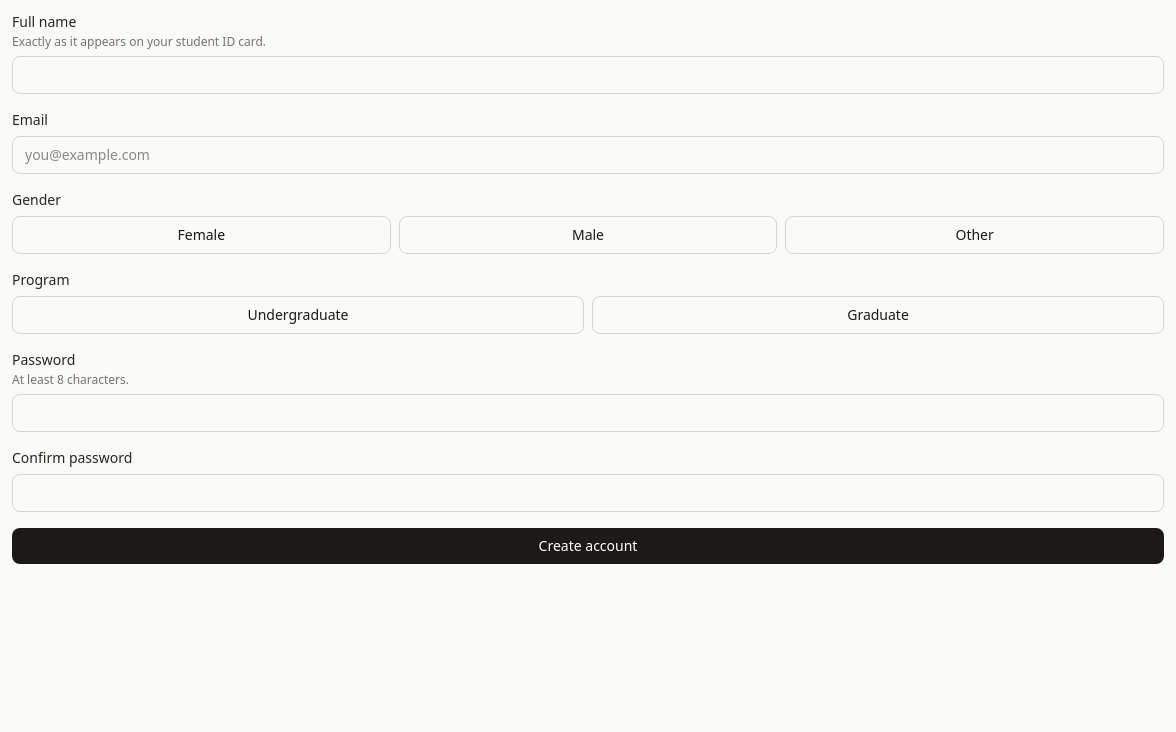
Test case: signup form › still refuses something that is not an address
In the field labelled "Full name": (588, 75) [12,56,1164,94], type "FOFANA VARLEE"
In the field labelled "Email": (588, 155) [12,136,1164,174], type "someone"
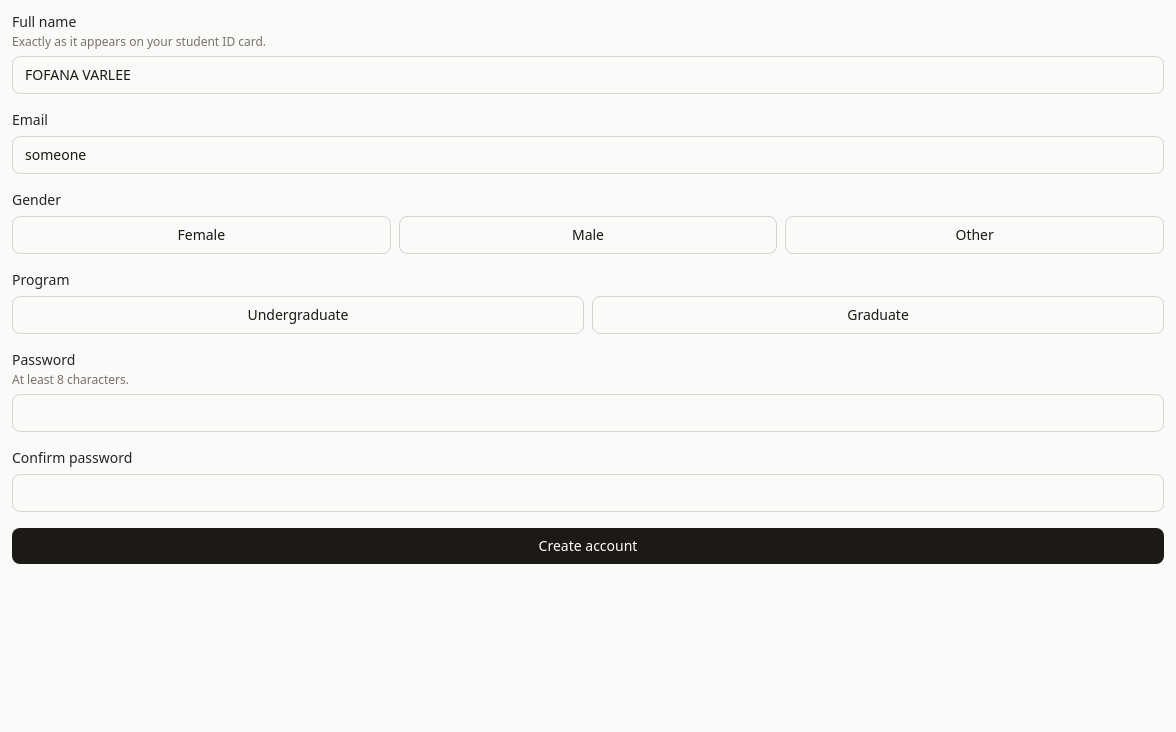
Click the radio button labelled "Male": (588, 235) [399,216,777,254]
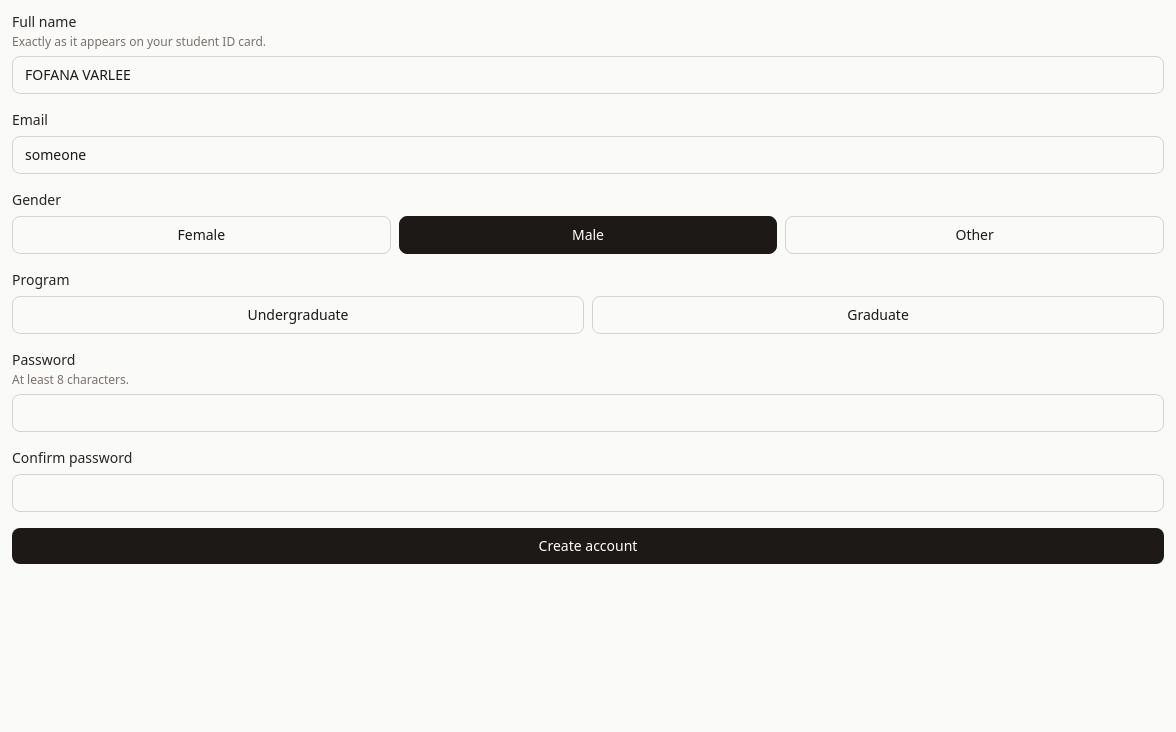
Click the radio button labelled "Undergraduate": (298, 315) [12,296,584,334]
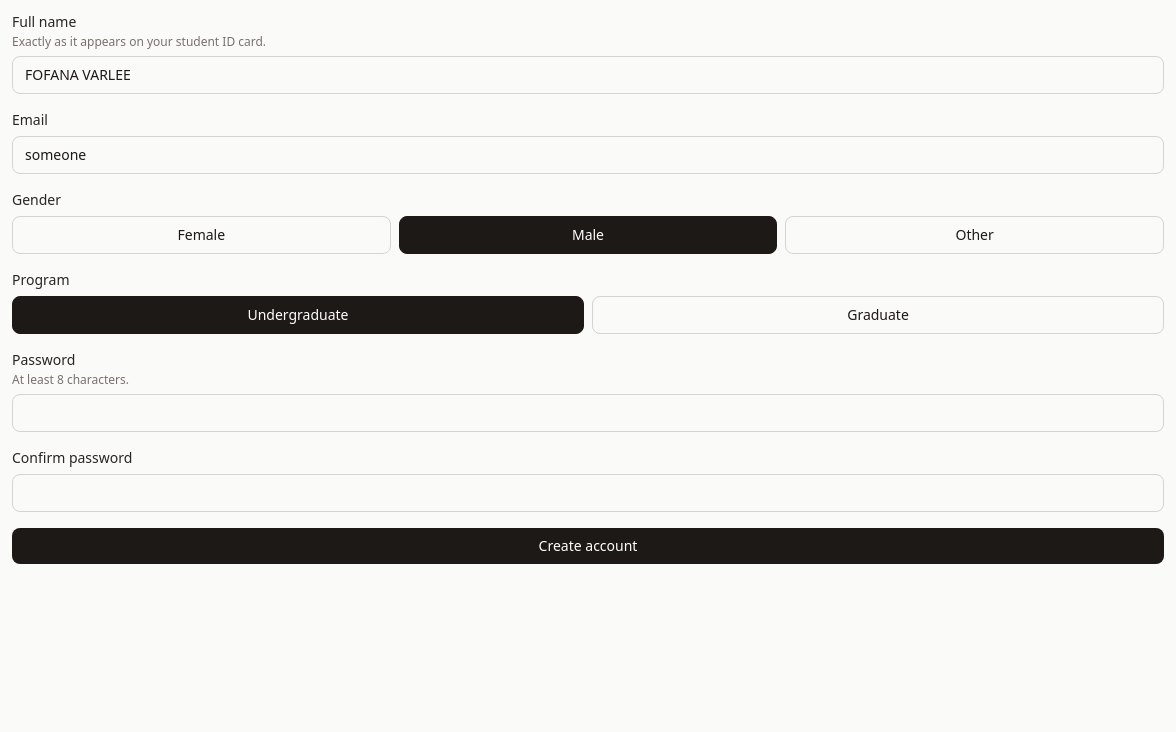
In the password field labelled "Password": (588, 413) [12,394,1164,432], type "correct horse"
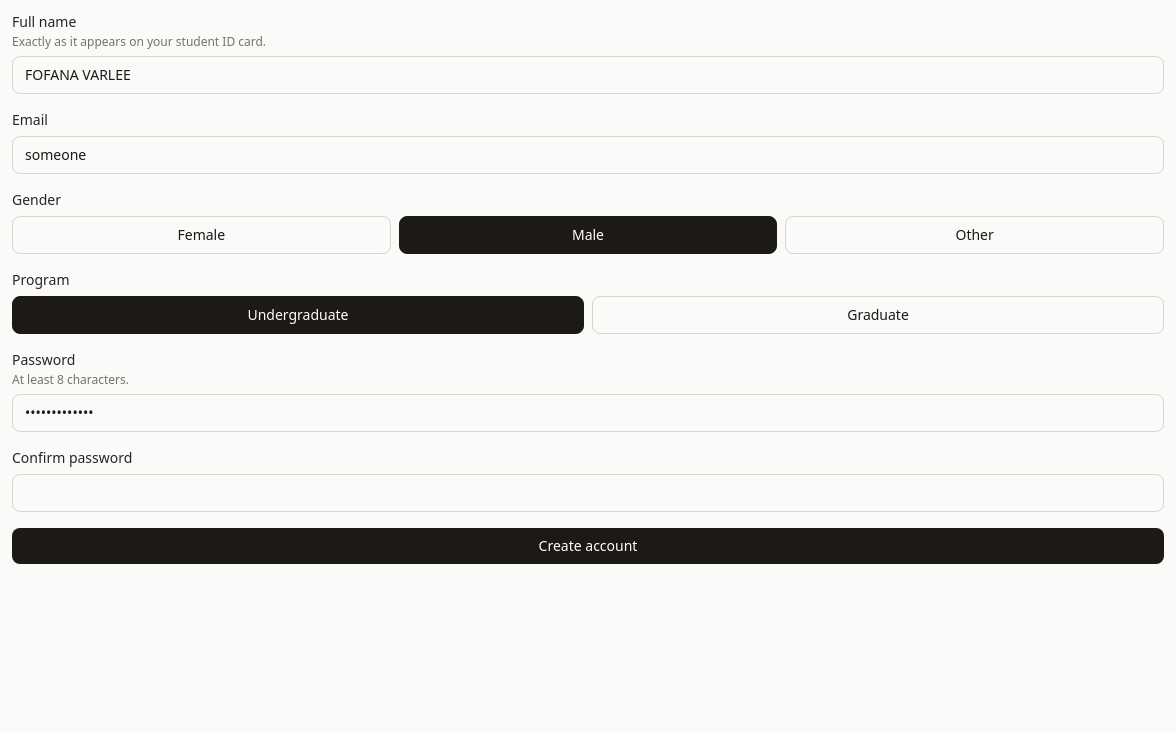
In the password field labelled "Confirm password": (588, 493) [12,474,1164,512], type "correct horse"
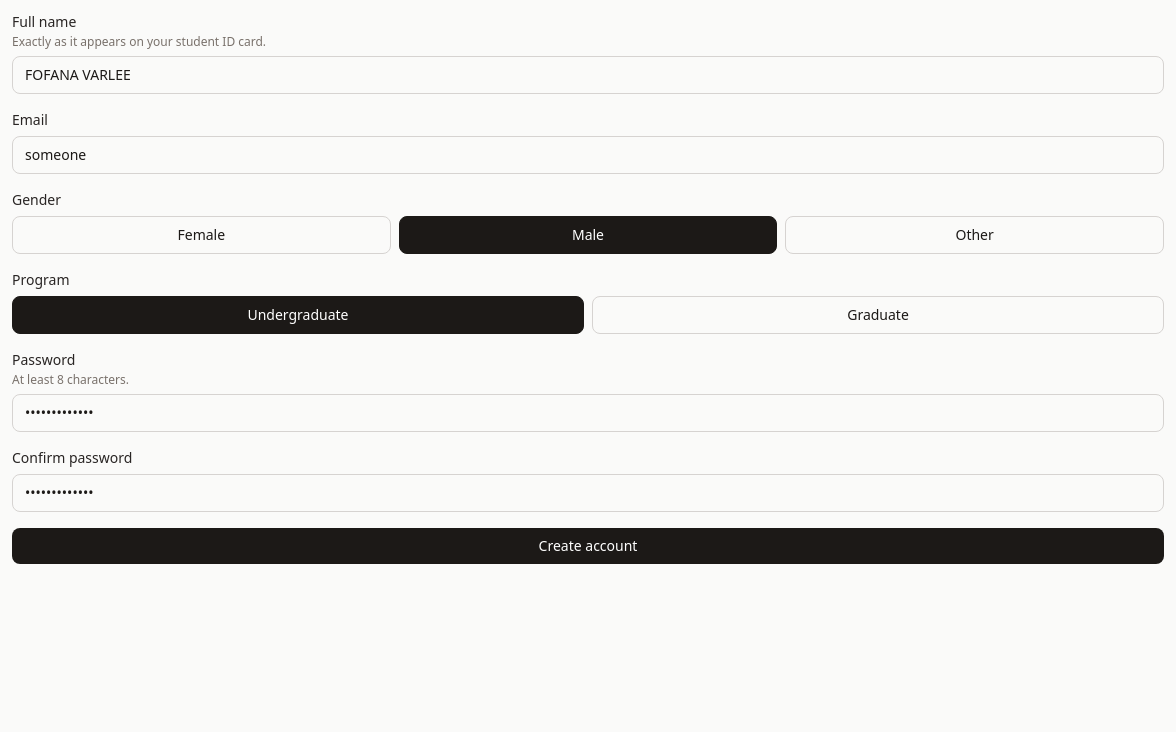
Click the button "Create account": (588, 546) [12,528,1164,564]
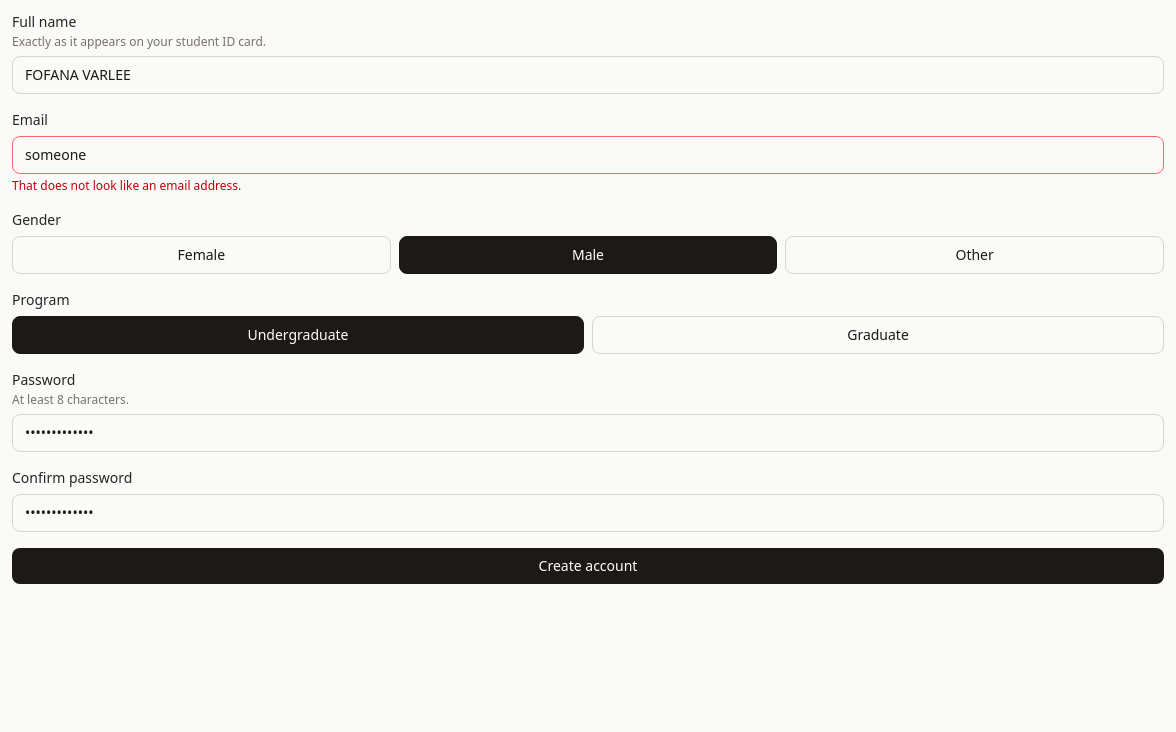
Now the text "That does not look like an email address." is shown, box [12,177,241,194]
